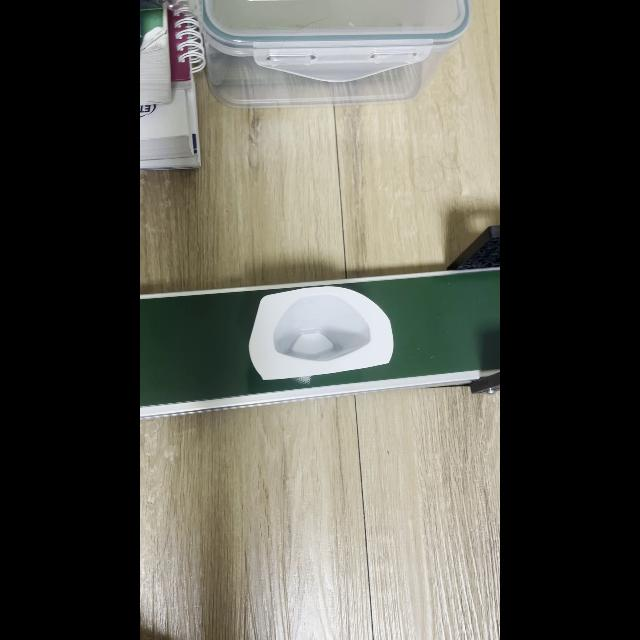clean: (248, 286, 394, 380)
